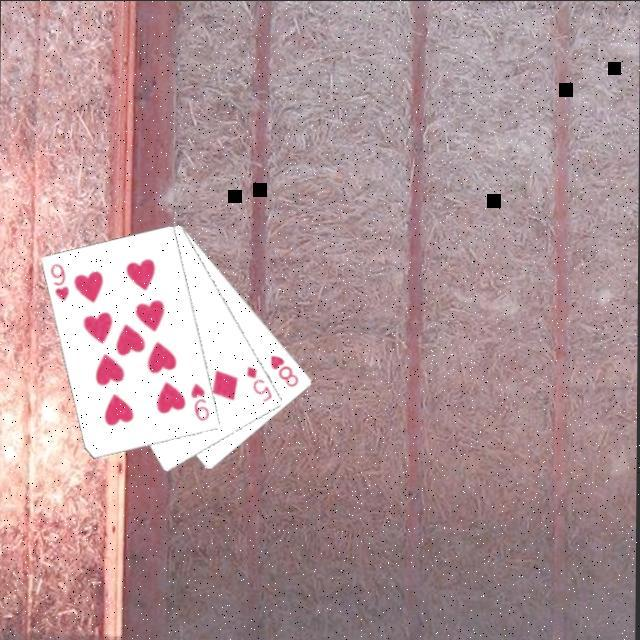5D: (245, 364, 277, 406)
8H: (269, 353, 303, 391)
9H: (190, 381, 215, 425), (49, 262, 74, 306)
